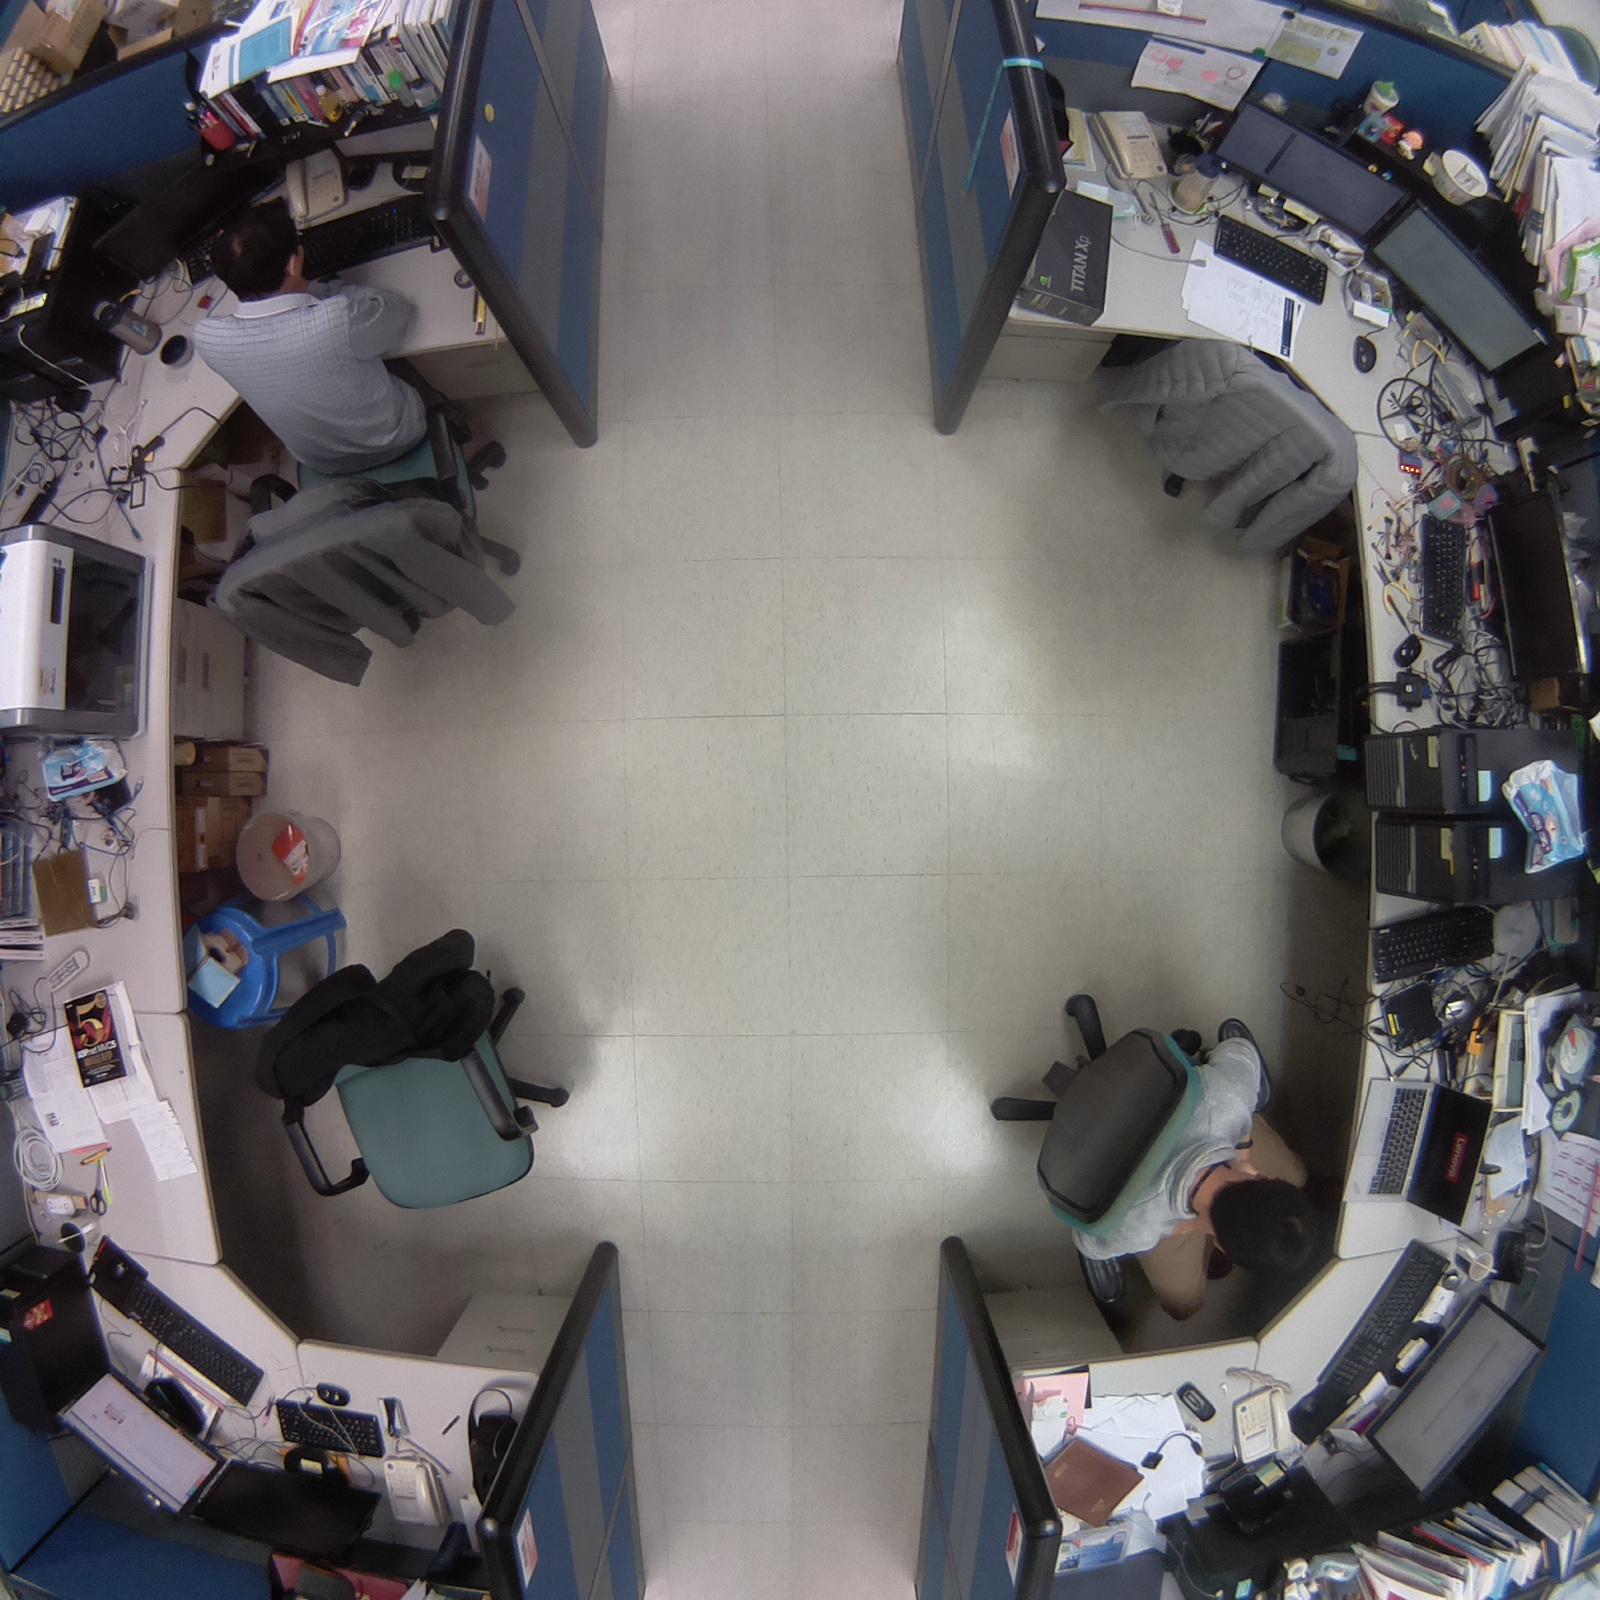chair: (242, 906, 604, 1240), (1086, 314, 1370, 586)
head: (1204, 1157, 1334, 1287), (208, 193, 312, 306)
sitting: (178, 197, 542, 722), (973, 968, 1339, 1317)
